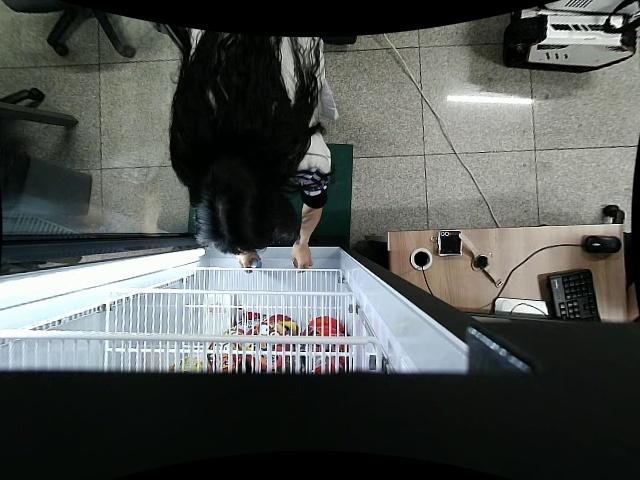00_hand: (290, 243, 314, 275)
